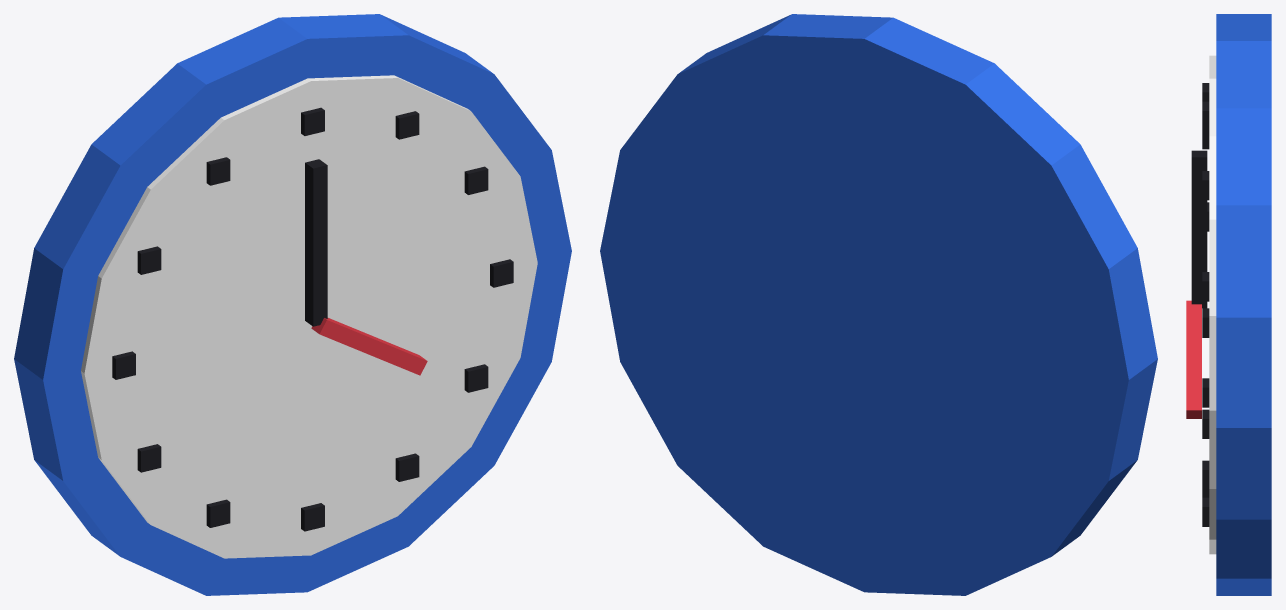
Rendered from wall_clock.8b3b0ad08cab.glb.
The picture shows the model from 3 angles, left to right: view 1: azimuth 30°, elevation 25°; view 2: azimuth 150°, elevation 25°; view 3: azimuth 270°, elevation 25°; orthographic projection. The views are drawn at different scales.
Parts seen in each view (by area): view 1: wall_clock; view 2: wall_clock; view 3: wall_clock.
Part boxes in pixels (x1,y1,x2,y2): wall_clock: (14,14,571,595); wall_clock: (600,14,1157,595); wall_clock: (1186,14,1271,595).
Size of the model in its own units: 0.42 by 0.42 by 0.0617.
